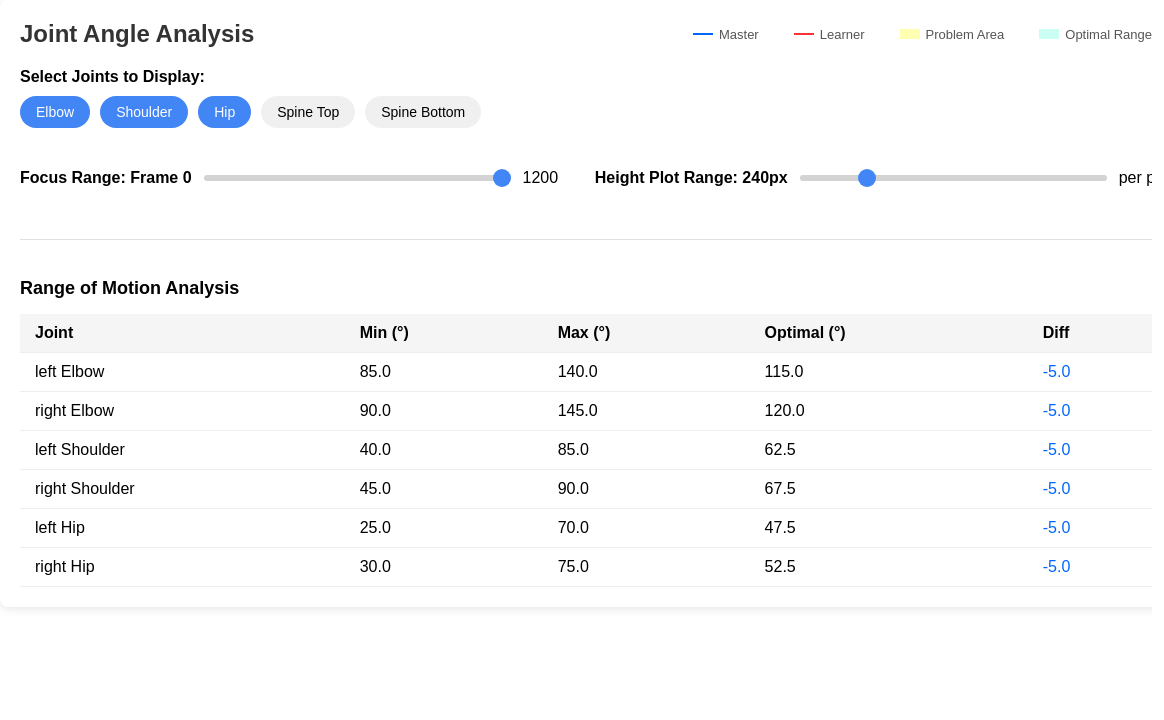
JointAngleChart Component › Slider Controls › height plot slider updates correctly
The width and height of the screenshot is (1164, 720).
Set the 2nd slider showing "240" to "300": [905, 178] box [800,175,1107,181]
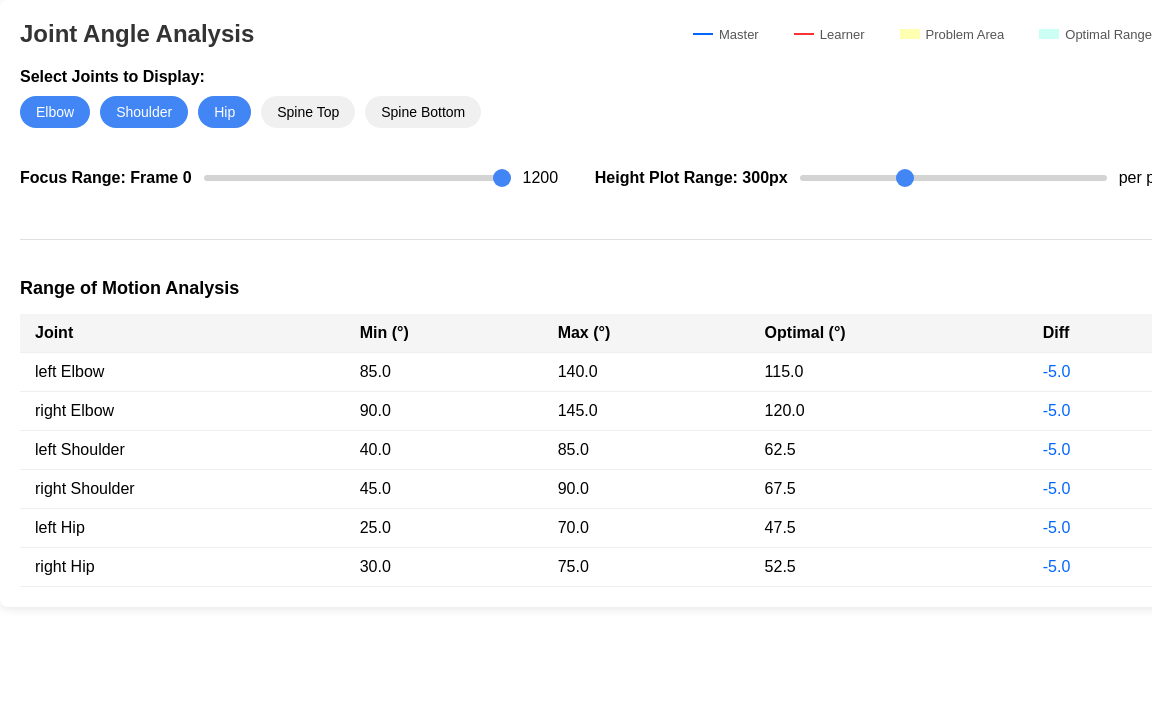
Check: the heading "Height Plot Range: 300px" is shown, box [595,169,788,187]
